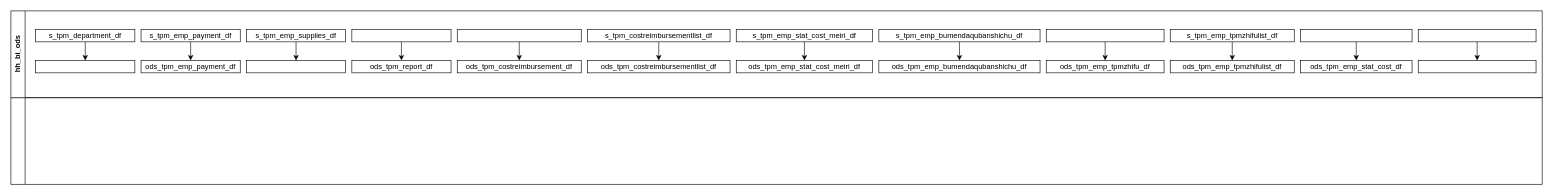
The diagram is 1553 pixels wide and 195 high, and some of its shapes have lost their labels. The shapes that lost their labels are listed below. From the top down, each one's centre as x and y in pixels, then its label:
At (401,35): "s_tpm_report_df".
At (519,35): "s_tpm_costreimbursement_df".
At (1105,35): "s_tpm_emp_tpmzhifu_df".
At (1356,35): "s_tpm_emp_stat_cost_df".
At (1477,35): "s_tpm_emp_bizhongguanli_f".
At (85,66): "ods_tpm_department_df".
At (296,66): "ods_tpm_emp_supplies_df".
At (1477,66): "ods_tpm_emp_bizhongguanli_f".
At (776,140): "hh_bi_cdm".
